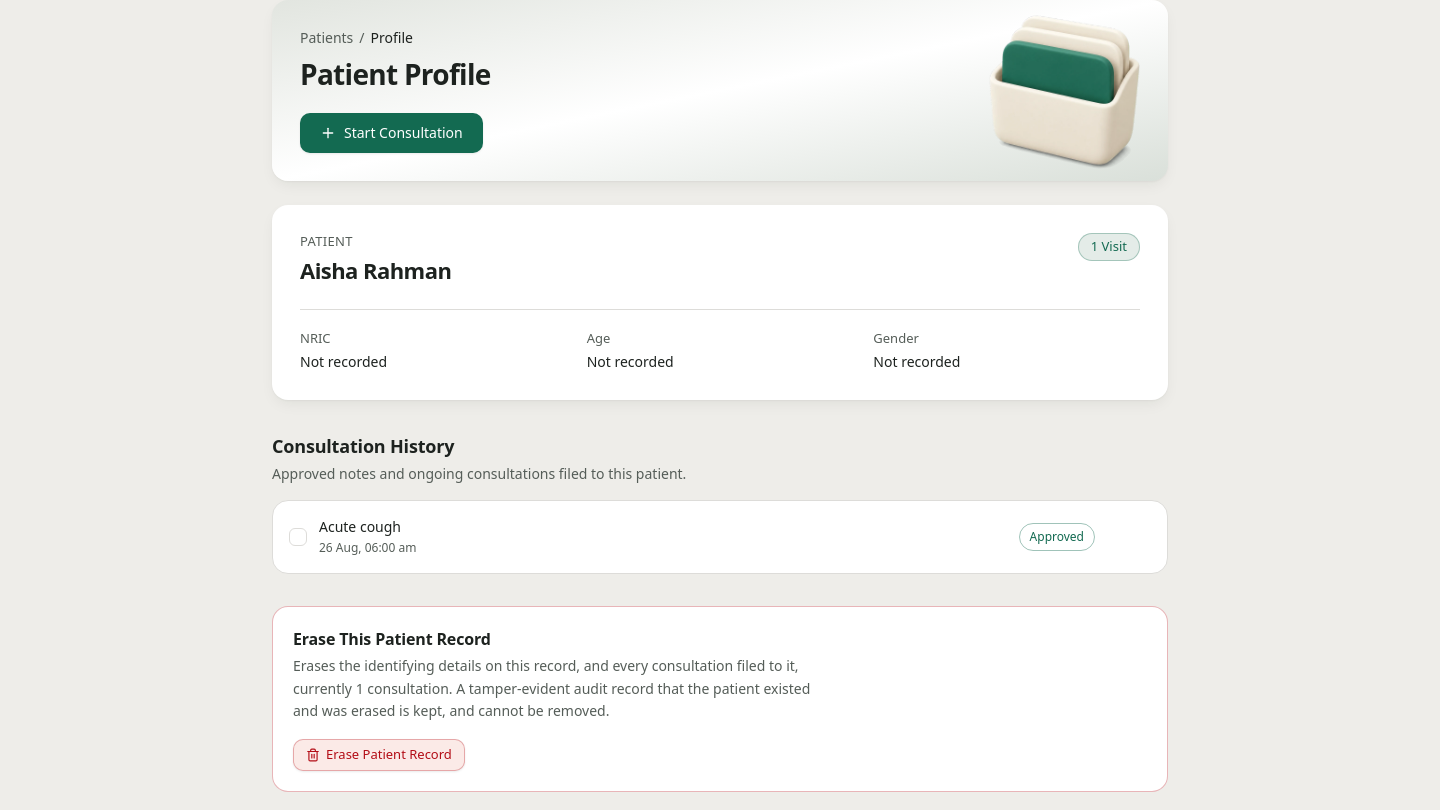
Test: erasing this patient record › states this patient consultation count before erasing
Expected: the heading "Aisha Rahman" is shown, [300,255,451,286]
Click the button "Erase Patient Record": [379, 755] box [293,739,465,771]
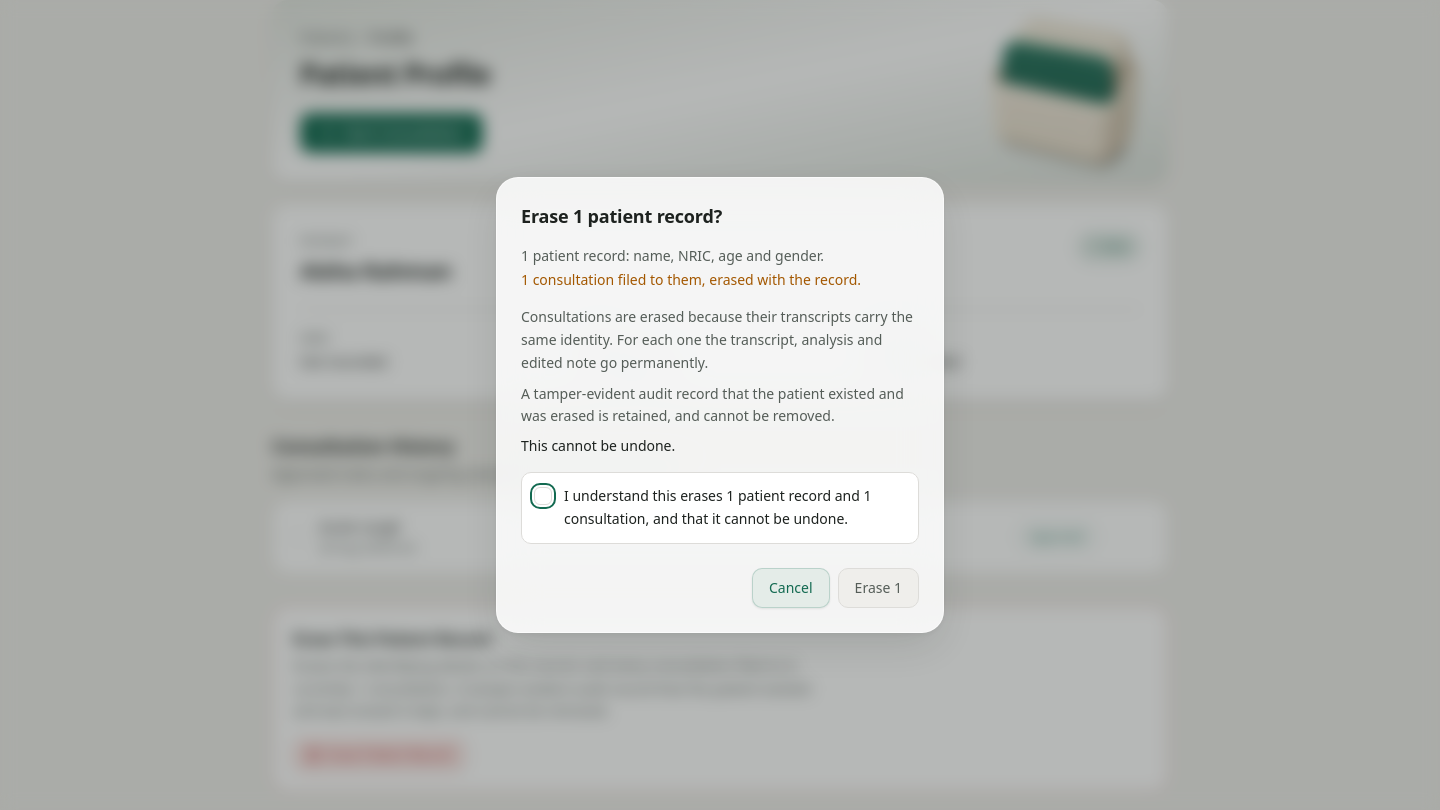
Expected: the list item "1 consultation filed to them, erased with the record." is shown, [521,270,919,290]
